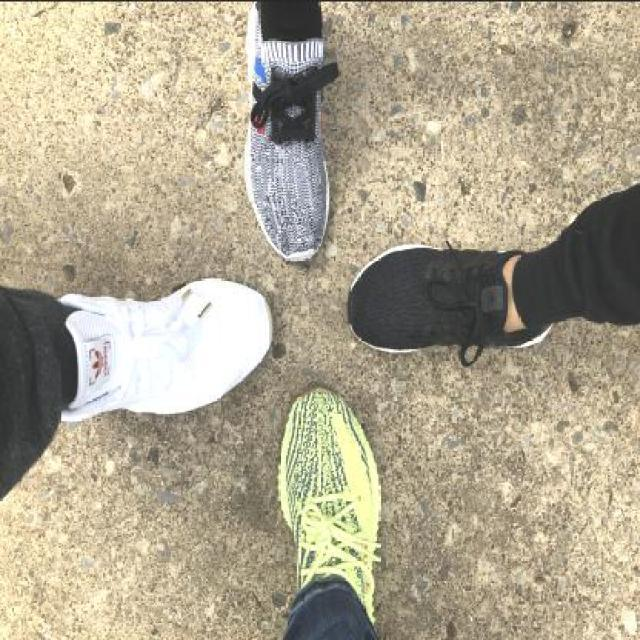shoes: (62, 275, 272, 420), (346, 240, 543, 357), (280, 384, 380, 608), (243, 25, 333, 264)
